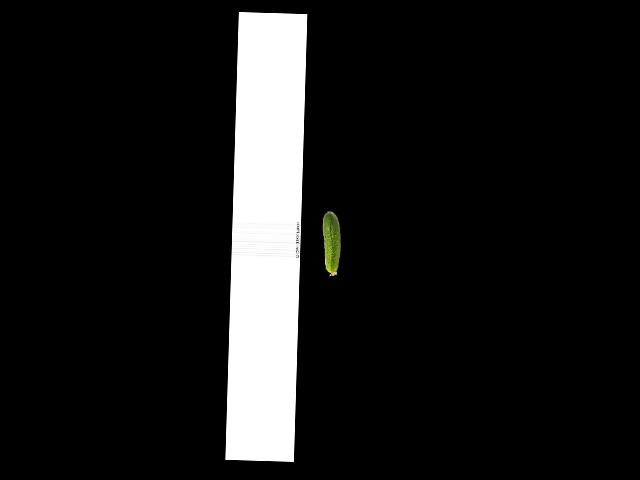cucumber: (321, 210, 341, 276)
